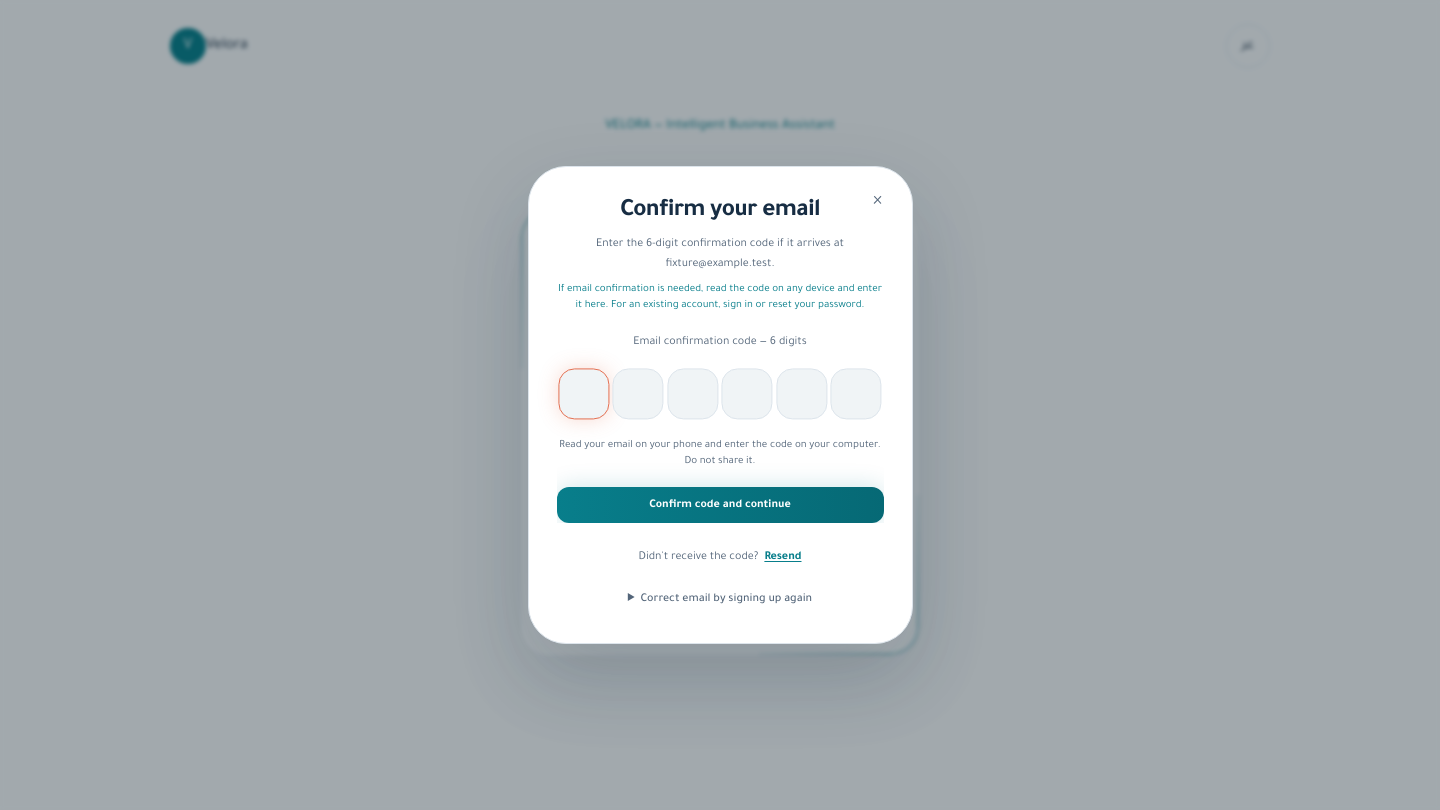
Test: explains blocked resend instead of silently claiming delivery
The width and height of the screenshot is (1440, 810).
Click the button "Resend" at (783, 557), box x1=764 y1=539 x2=802 y2=575
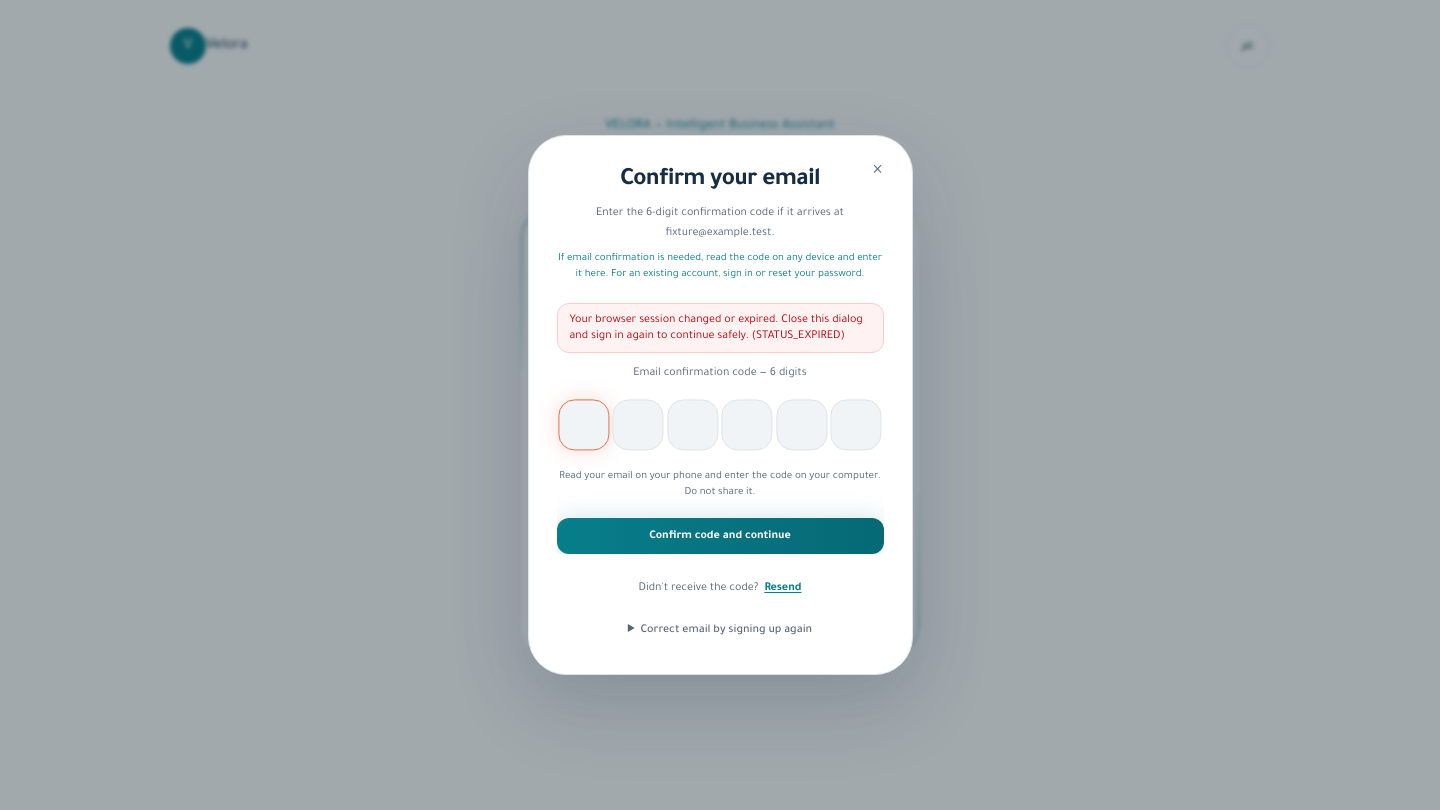
expect the message shows "browser session changed or expired": met, box x1=570 y1=314 x2=863 y2=342
